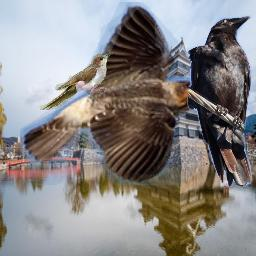Crow: (187, 14, 253, 187)
Cuckoo: (39, 52, 113, 110)
Swallow: (20, 2, 220, 185)
